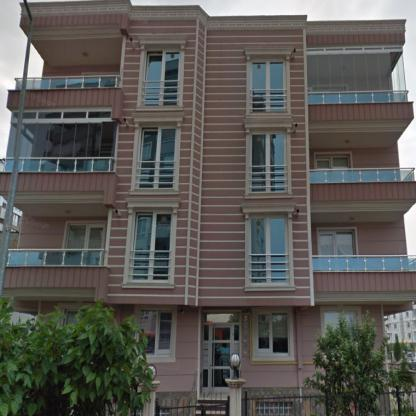door: (202, 313, 240, 391)
window: (307, 45, 406, 103), (19, 109, 117, 156), (127, 210, 172, 282), (250, 215, 289, 286), (135, 126, 176, 190), (250, 128, 288, 193), (142, 46, 180, 106), (251, 56, 288, 115), (253, 310, 293, 356), (137, 308, 174, 355), (318, 228, 356, 255), (65, 223, 104, 249), (321, 308, 360, 334), (314, 152, 352, 168), (7, 112, 18, 158), (256, 402, 292, 416)
